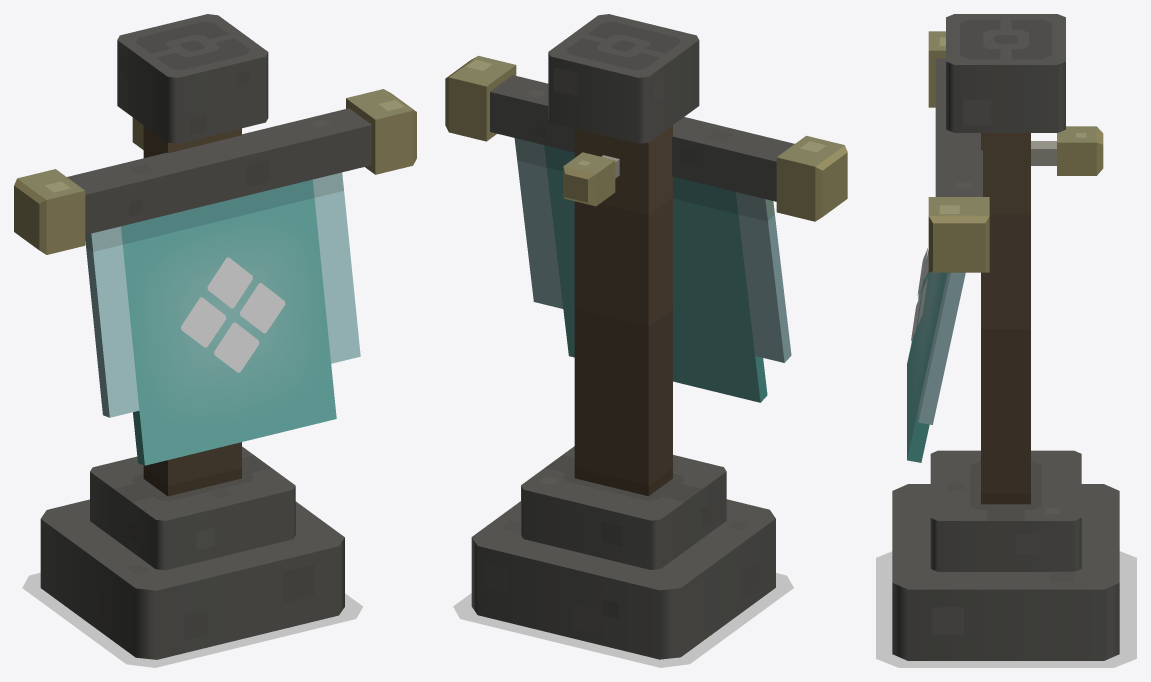
Rendered from MG_typeBanner_icetype.fbx.
The picture shows the model from 3 angles, left to right: view 1: azimuth 30°, elevation 25°; view 2: azimuth 150°, elevation 25°; view 3: azimuth 270°, elevation 25°; orthographic projection. The views are drawn at different scales.
Parts seen in each view (by area): view 1: polySurface6, polySurface5, ground; view 2: polySurface6, polySurface5, ground; view 3: polySurface6, polySurface5, ground.
Part boxes in pixels (x1=…): polySurface6: x1=14, y1=14, x2=416, y2=659; polySurface5: x1=85, y1=172, x2=360, y2=465; ground: x1=22, y1=572, x2=363, y2=667; polySurface6: x1=445, y1=14, x2=847, y2=659; polySurface5: x1=514, y1=138, x2=791, y2=402; ground: x1=453, y1=573, x2=793, y2=667; polySurface6: x1=892, y1=14, x2=1119, y2=660; polySurface5: x1=907, y1=248, x2=965, y2=462; ground: x1=876, y1=551, x2=1136, y2=667.
Size of the model in its own units: 5.12 by 7.14 by 2.97.
